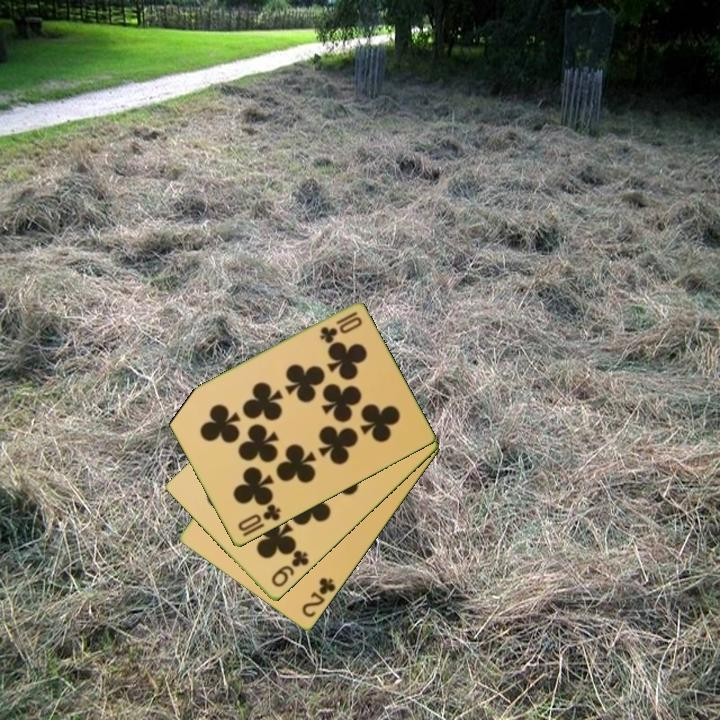10c: (234, 501, 284, 535), (316, 308, 360, 346)
2c: (298, 574, 339, 621)
9c: (268, 547, 312, 591)
